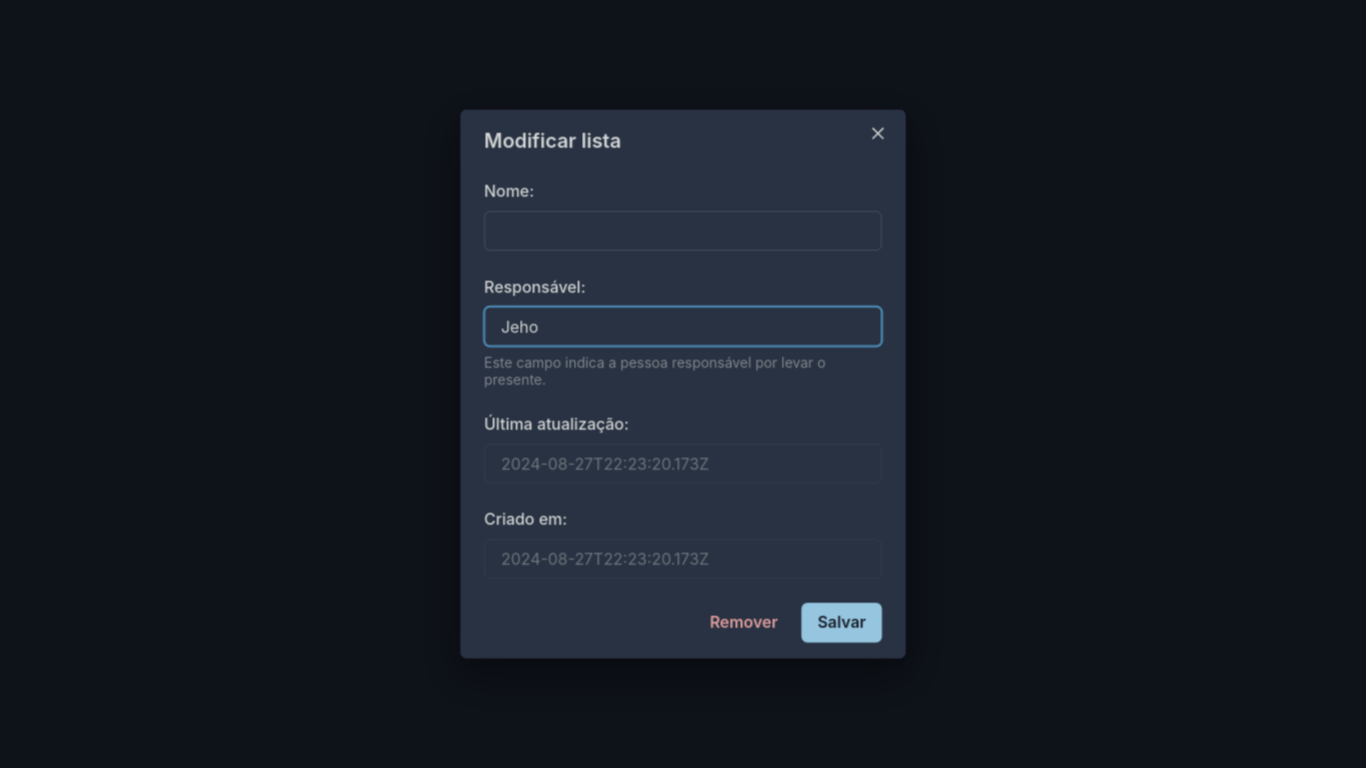
it: modules - lists - Modify › should show form error message when try to submit form without item name
The width and height of the screenshot is (1366, 768).
Click the button "Salvar" at (842, 623), box 802,603 -> 882,643
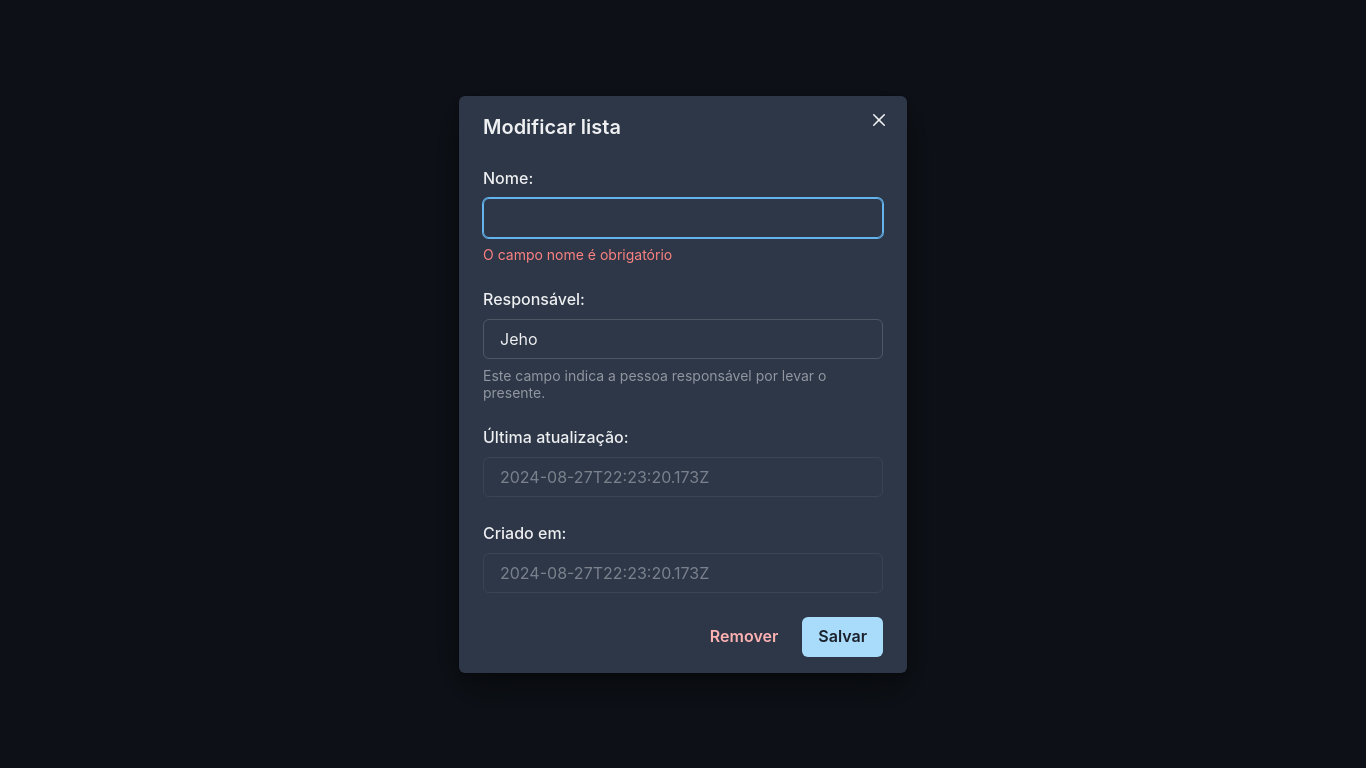
Now the text "O campo nome é obrigatório" is shown, box 483,246 -> 672,262
